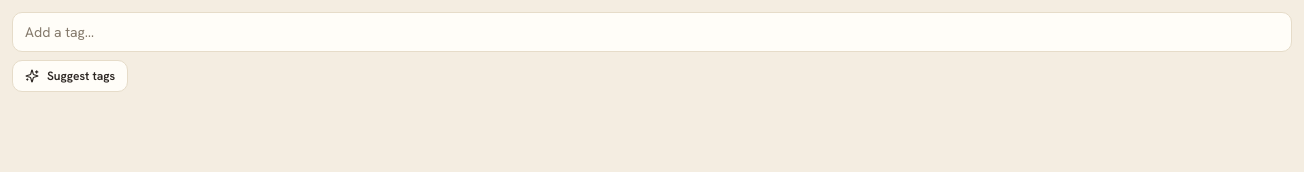
it: ItemTagsEditor › offers the existing tag rather than creating a case variant
Type "Dairy" into the dropdown at point(652, 32), box [12,12,1292,52]
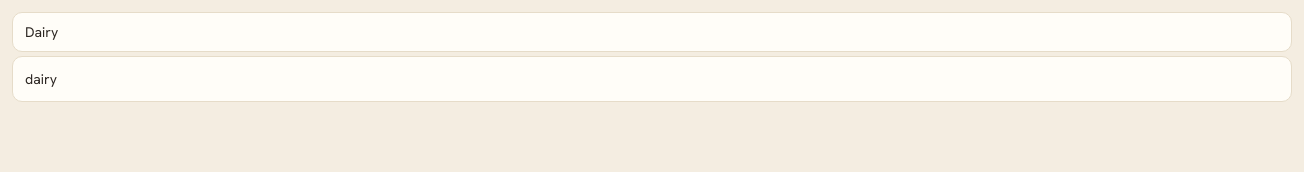
Expected: the option "dairy" is shown, [13,61,1291,97]
